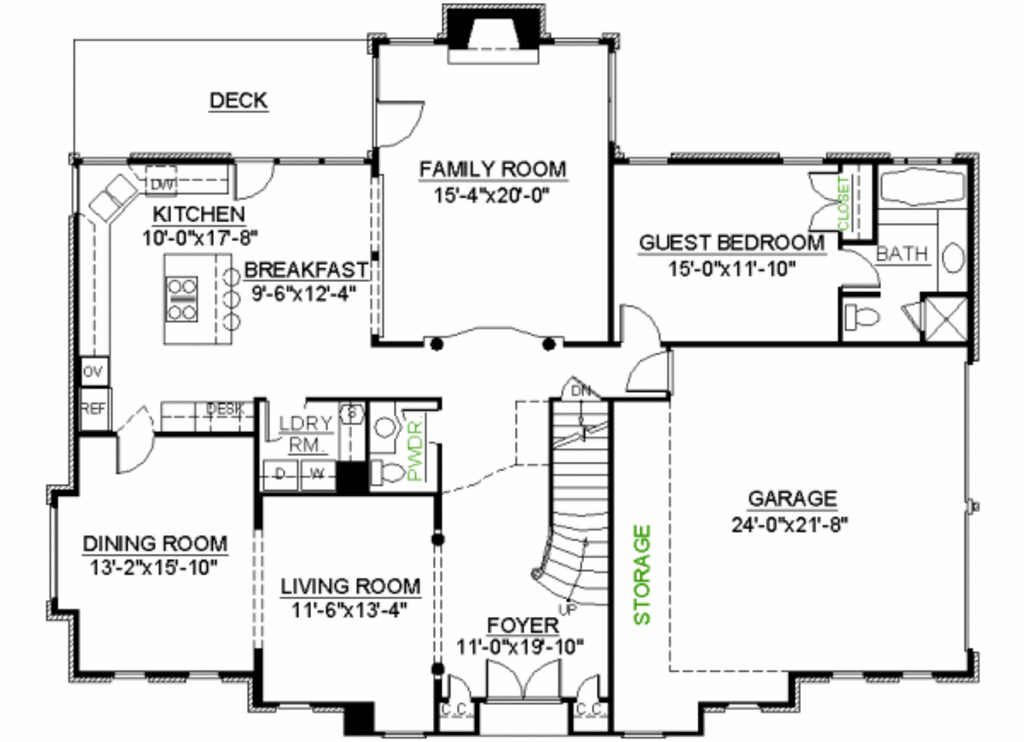door: (481, 657, 569, 704), (370, 97, 428, 148), (616, 300, 665, 347), (806, 166, 838, 237), (231, 156, 277, 203), (111, 433, 161, 475), (836, 243, 882, 288), (625, 351, 669, 394)
kitchen_bar: (156, 247, 240, 354)
large_sink: (842, 297, 885, 337), (368, 456, 409, 490)
small_sink: (932, 205, 973, 296), (365, 398, 400, 454)
stairs: (529, 400, 613, 606)
tub: (876, 167, 970, 213)
twin_sink: (86, 170, 139, 218)
window: (270, 696, 313, 718), (624, 151, 671, 171), (178, 670, 225, 689), (894, 665, 943, 681), (773, 151, 825, 166), (823, 671, 868, 688), (720, 699, 767, 715), (105, 668, 148, 685)
